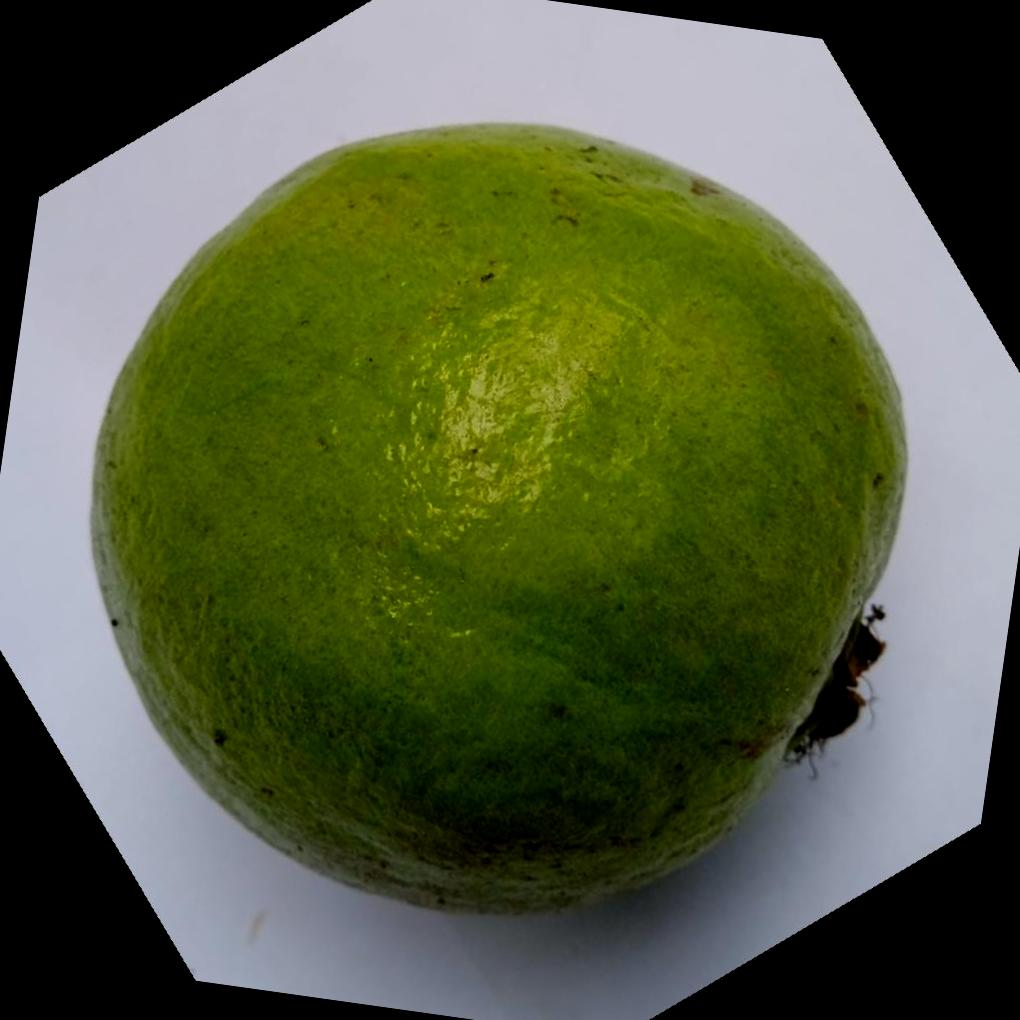FreshGuava: (86, 124, 909, 922)
